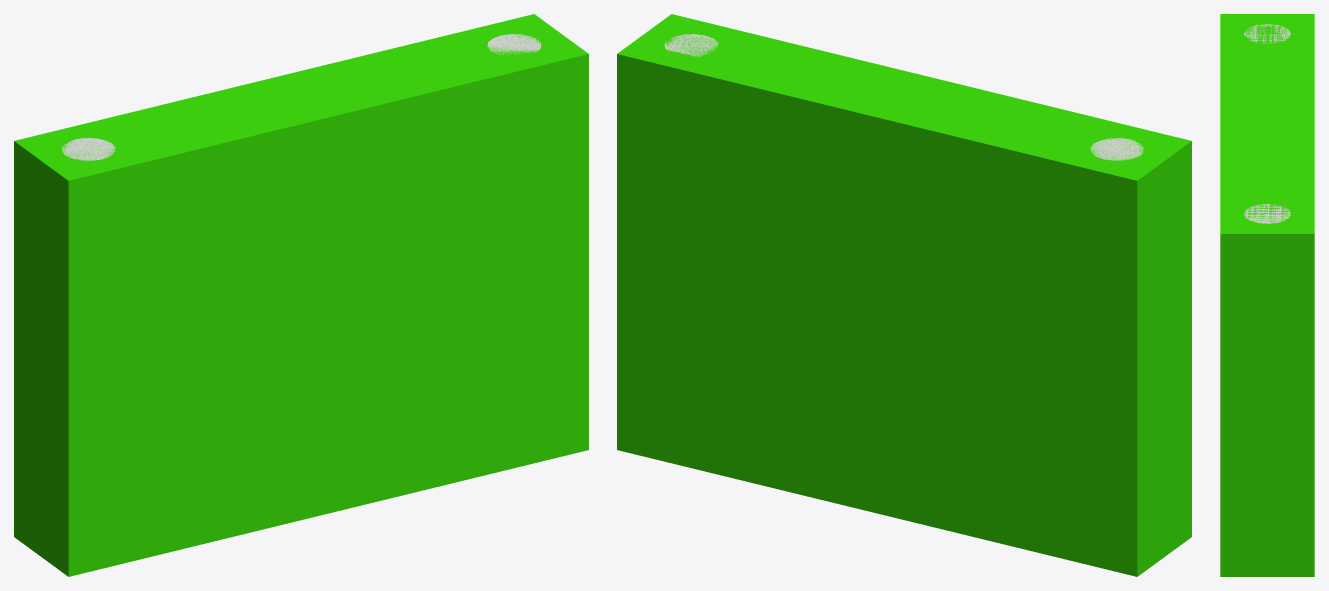
Rendered from ladder_1.glb.
The picture shows the model from 3 angles, left to right: view 1: azimuth 30°, elevation 25°; view 2: azimuth 150°, elevation 25°; view 3: azimuth 270°, elevation 25°; orthographic projection. The views are drawn at different scales.
Visible parts, largest first — view 1: ladder1, ladder; view 2: ladder1, ladder; view 3: ladder1, ladder.
Part boxes in pixels (box(x1,y1,x2,y2)): ladder1: box(14, 14, 588, 576); ladder: box(62, 34, 541, 160); ladder1: box(617, 14, 1191, 576); ladder: box(664, 34, 1143, 160); ladder1: box(1220, 14, 1314, 576); ladder: box(1244, 24, 1290, 223).
Bounding box in the file's own units: 22 × 16 × 4.
